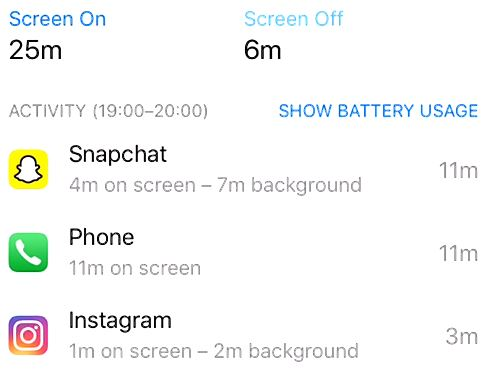activity: (1, 93, 222, 128)
app: (3, 136, 481, 208), (1, 219, 484, 289), (3, 303, 483, 368)
